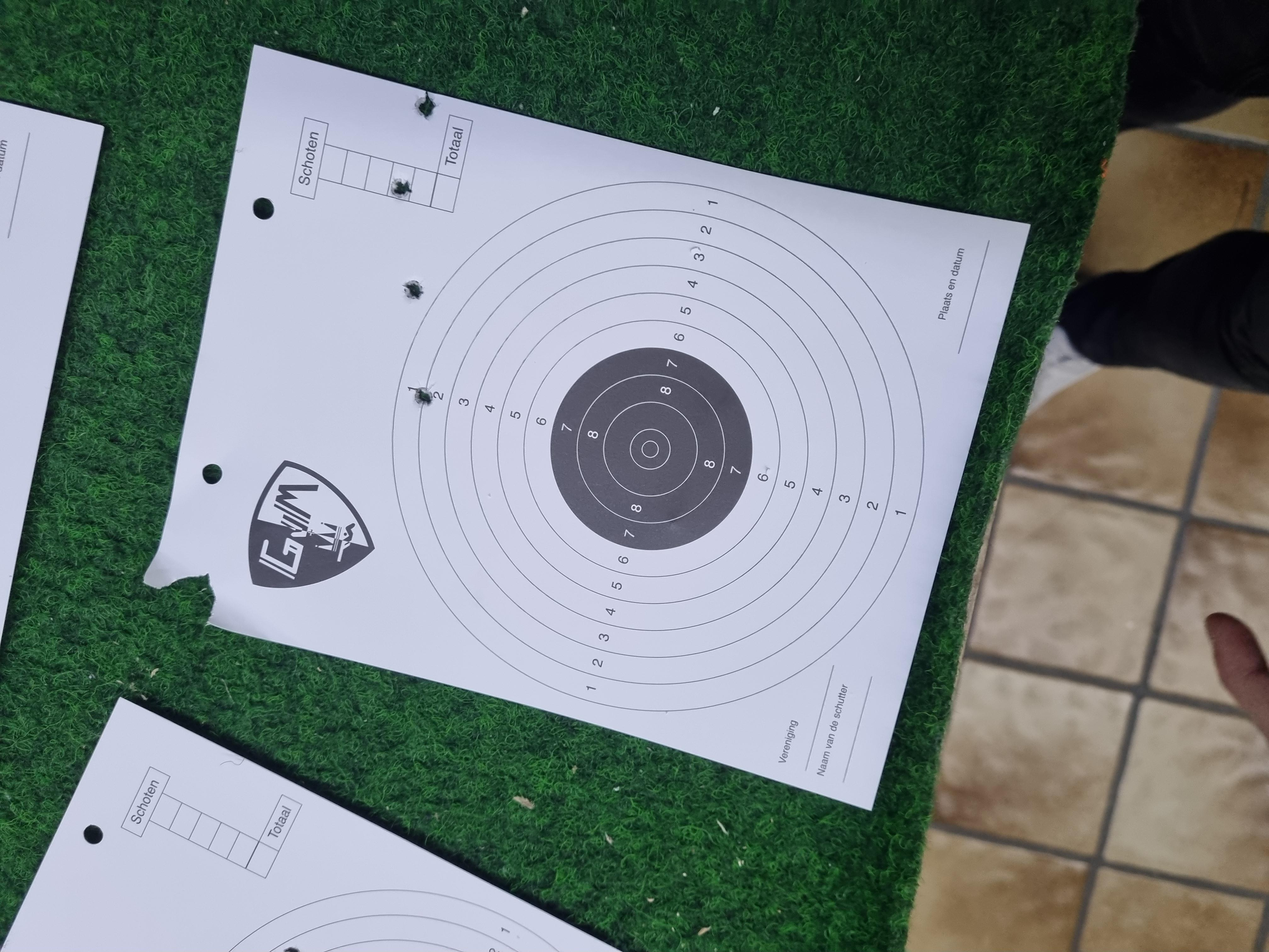hole: (126, 623, 159, 642), (371, 633, 401, 651), (515, 626, 544, 642), (237, 643, 263, 659)
